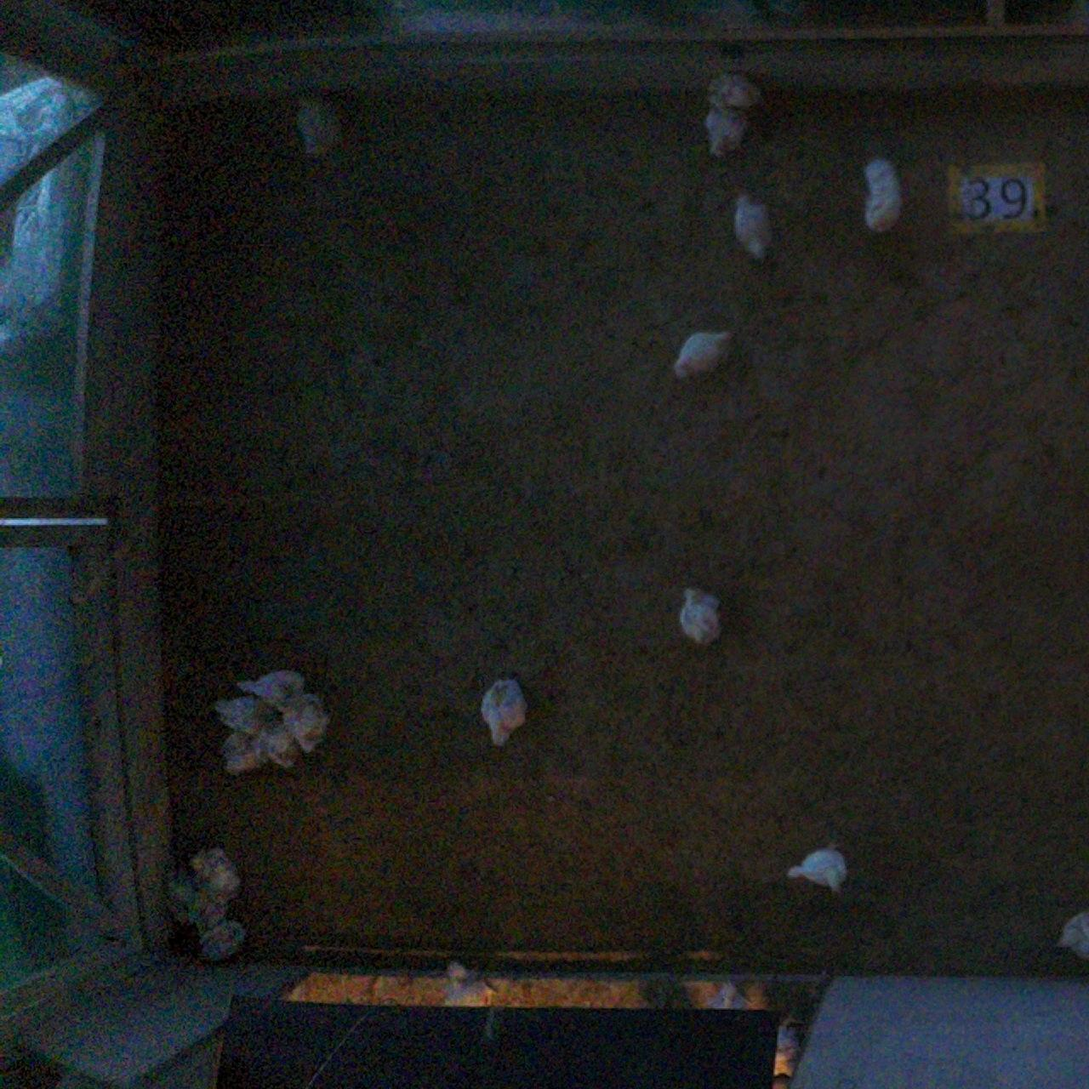chicken: (284, 80, 354, 166), (850, 150, 909, 237), (476, 667, 533, 757), (668, 320, 744, 386), (783, 830, 852, 901), (278, 680, 338, 761), (674, 577, 730, 659), (728, 189, 785, 268), (159, 864, 226, 930), (234, 663, 311, 720), (188, 840, 244, 908), (701, 63, 772, 115), (185, 918, 255, 968), (206, 730, 267, 781), (210, 693, 272, 742), (257, 721, 307, 774), (1051, 904, 1089, 965)
